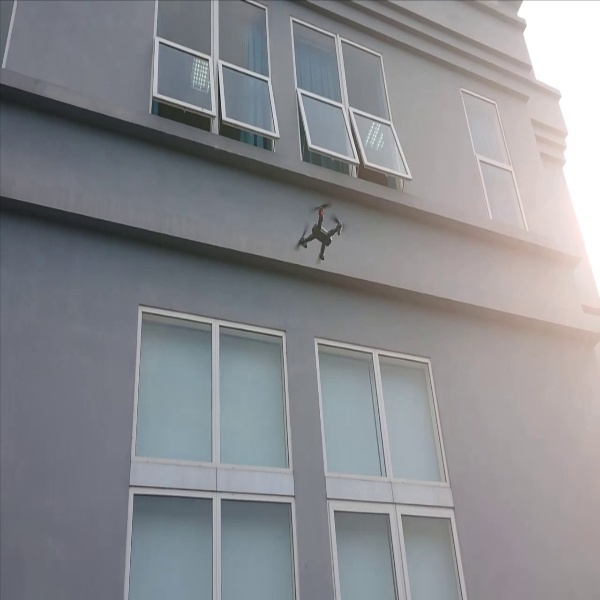drone: (290, 199, 353, 267)
